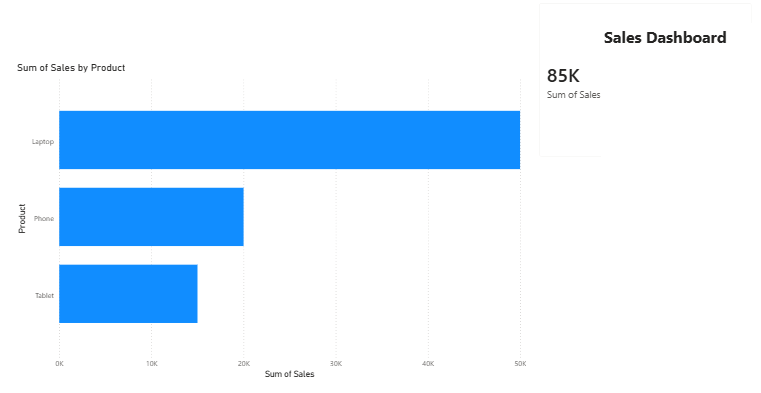

What the dashboard file says about the page in this screenshot:
{"tool":"powerbi","page":{"name":"Page 1","canvas":[1280,720],"ordinal":0},"visuals":[{"type":"clusteredBarChart","fields":{"Category":["SalesData.Product"],"Y":["Sum(SalesData.Sales)"]},"box":[23.5,162.9,865.1,539.2],"z":0},{"type":"cardVisual","fields":{"Data":["Sum(SalesData.Sales)"]},"box":[888.6,48.7,391.4,292.3],"z":1},{"type":"textbox","box":[1009.6,99.1,270.4,621.5],"z":2}]}

Visuals, with their boxes on the page's 1280x720 design canvas (x1, y1, x2, y2). These are canvas units, not pixel positions in the 761x393 screenshot, which may show the page scaled, cropped or inside an application window:
clusteredBarChart - SalesData.Product x Sum(SalesData.Sales): crop(24, 163, 889, 702)
cardVisual - Sum(SalesData.Sales): crop(889, 49, 1280, 341)
textbox: crop(1010, 99, 1280, 721)
